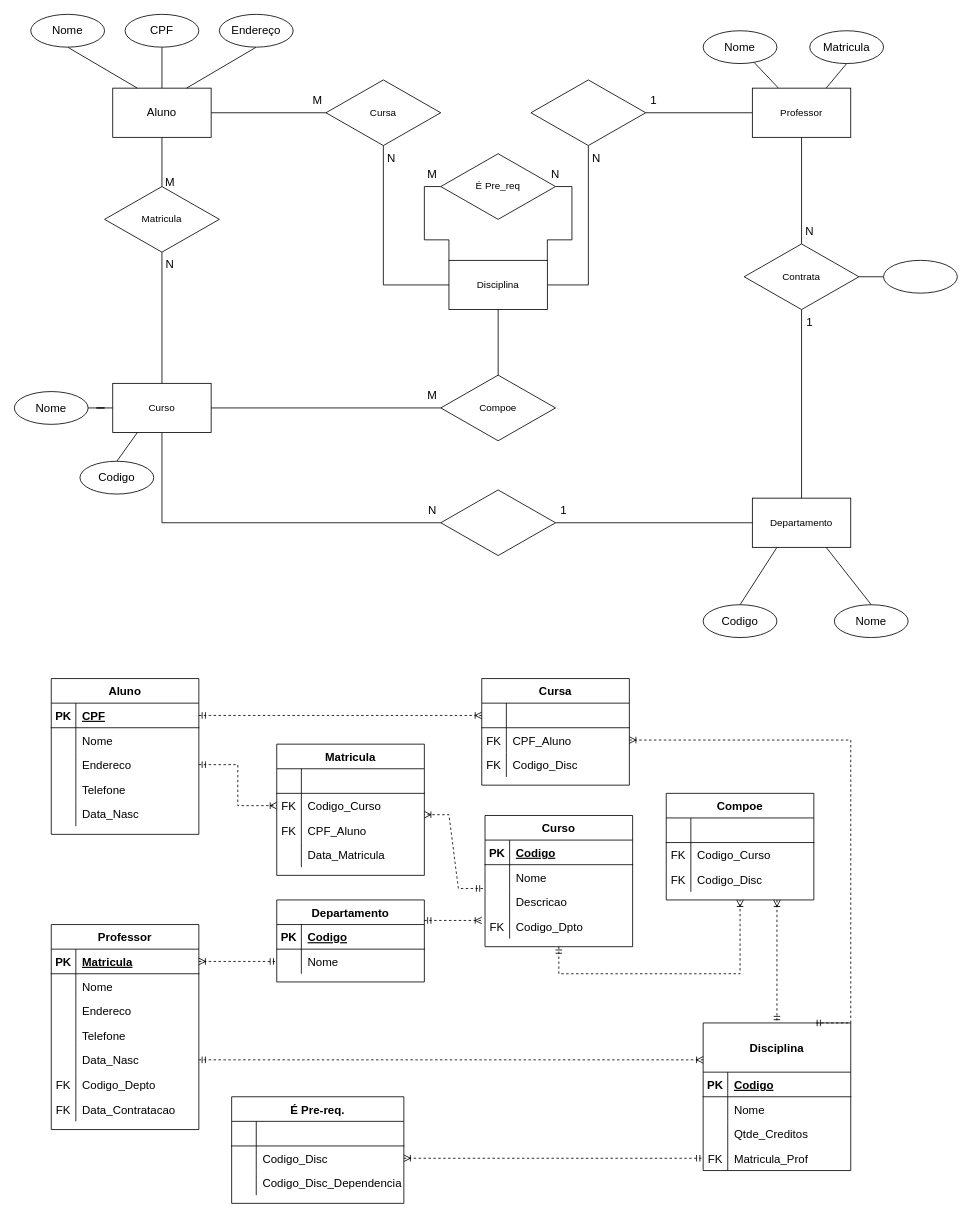
The diagram is 972 pixels wide and 1218 high, and some of its shapes have lost their labels. Each missing label, with the centre of its shape:
"Controla" belongs at point (498, 522).
"Data Contr" belongs at point (920, 276).
"Leciona" belongs at point (588, 112).
